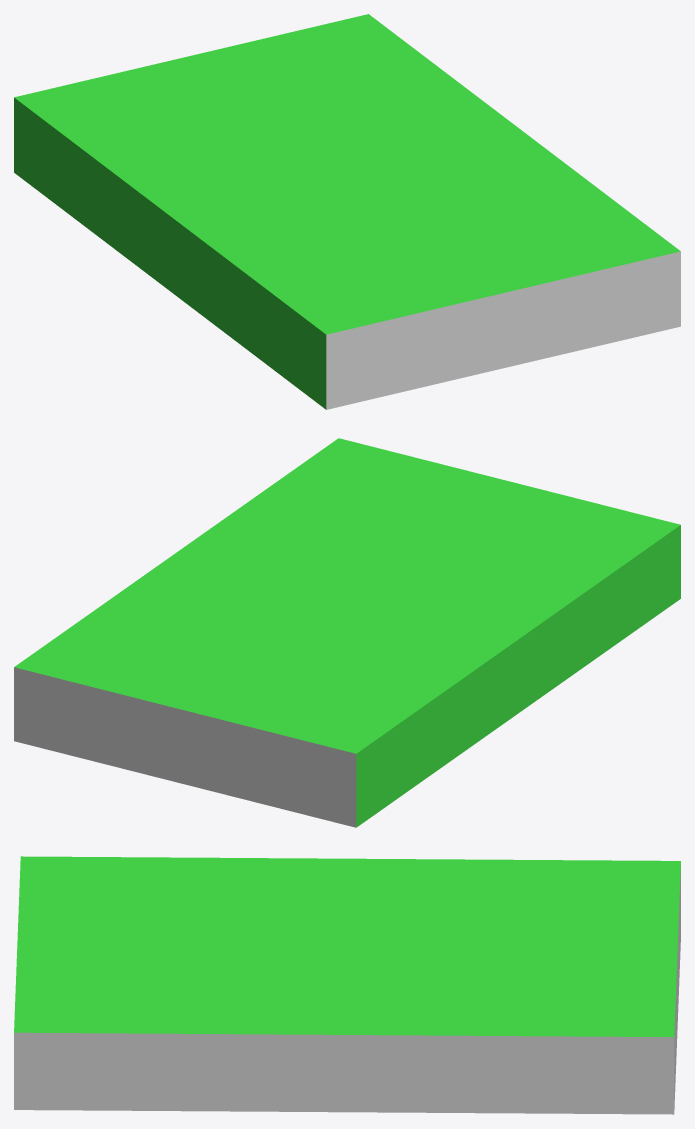
Rendered from Books 1.fbx.
The picture shows the model from 3 angles, top to bottom: view 1: azimuth 30°, elevation 25°; view 2: azimuth 150°, elevation 25°; view 3: azimuth 270°, elevation 25°; orthographic projection. The views are drawn at different scales.
Parts seen in each view (by area): view 1: Books 1; view 2: Books 1; view 3: Books 1.
Part boxes in pixels (left/top/right/bottom): Books 1: left=14, top=14, right=680, bottom=409; Books 1: left=14, top=438, right=680, bottom=827; Books 1: left=14, top=856, right=680, bottom=1114.
Bounding box in the file's own units: 49.88 × 9.95 × 77.81.
